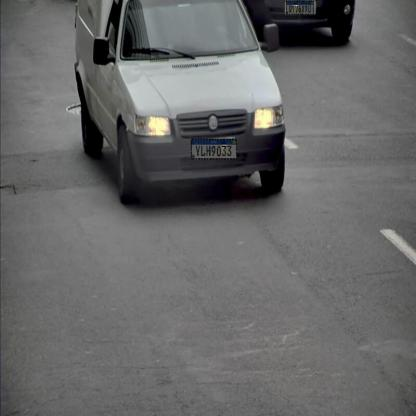PlacaM: (191, 138, 237, 160), (286, 0, 314, 14)
